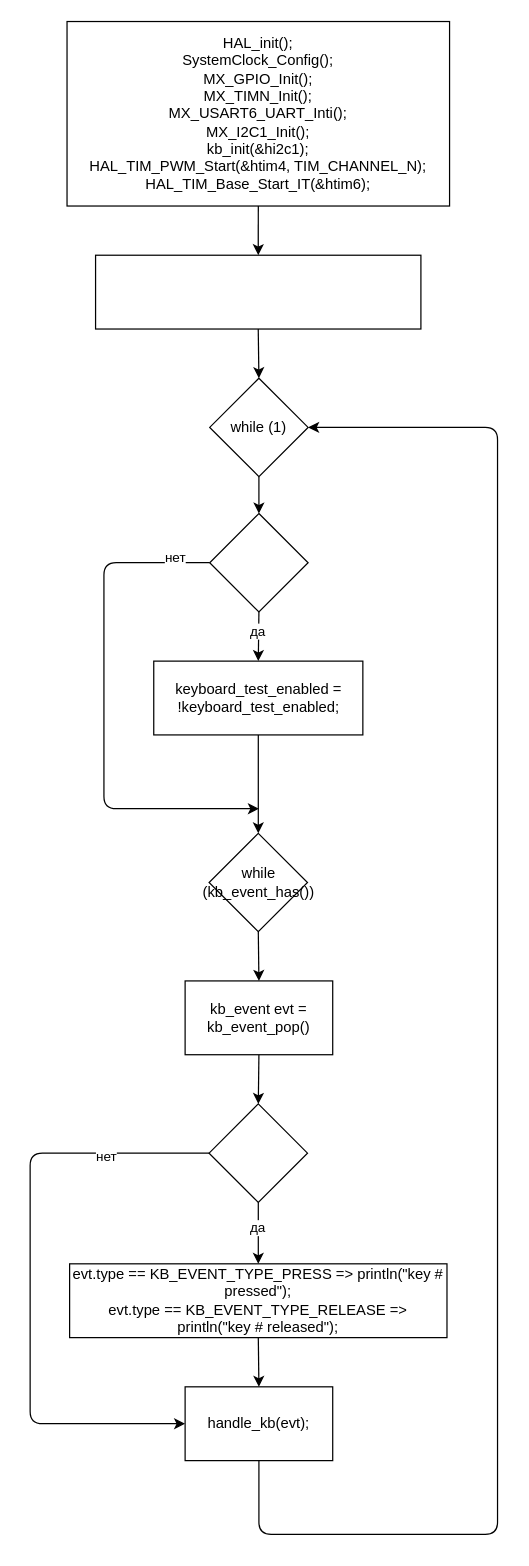
Some shapes in this 529 by 1566 pixel diagram are drawn without their labels. The centre of each missing label's shape, as x and y in pixels:
"bool keyboard_test_enabled = false;" goes at point 257,291.
"is_btn_clicked () == true" goes at point 258,562.
"keyboard_test_enabled == true;" goes at point 258,1152.
